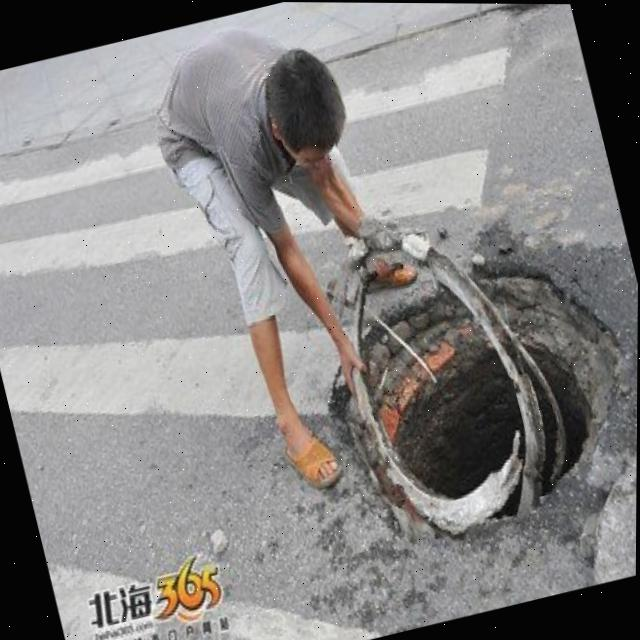manhole: (302, 222, 639, 568)
